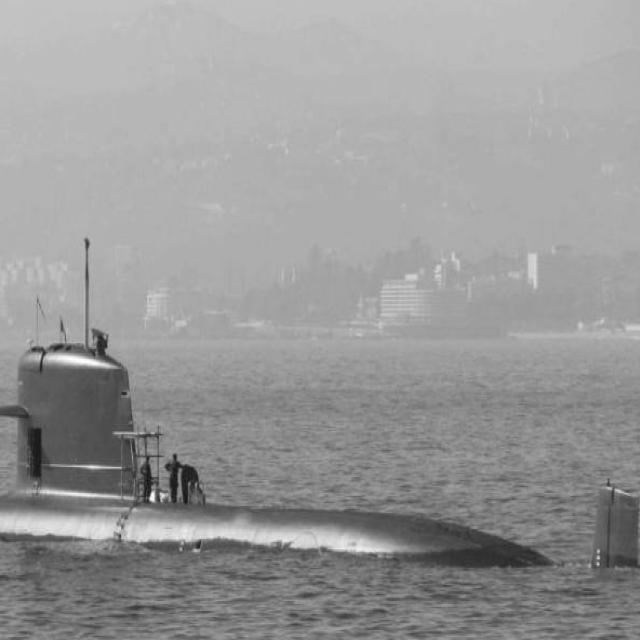submarine: (1, 225, 640, 561)
